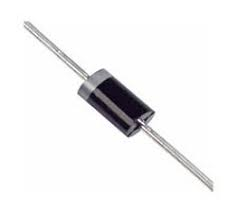diode: (59, 53, 174, 152)
